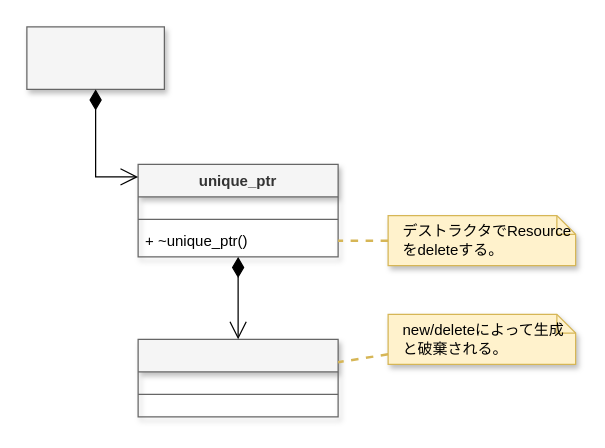
The diagram is 605 pixels wide and 448 high, and some of its shapes have lost their labels. Here are the shapes that lost their labels. From the top down, the centre of each, then its label:
(96,59): Object
(239,379): Resource
